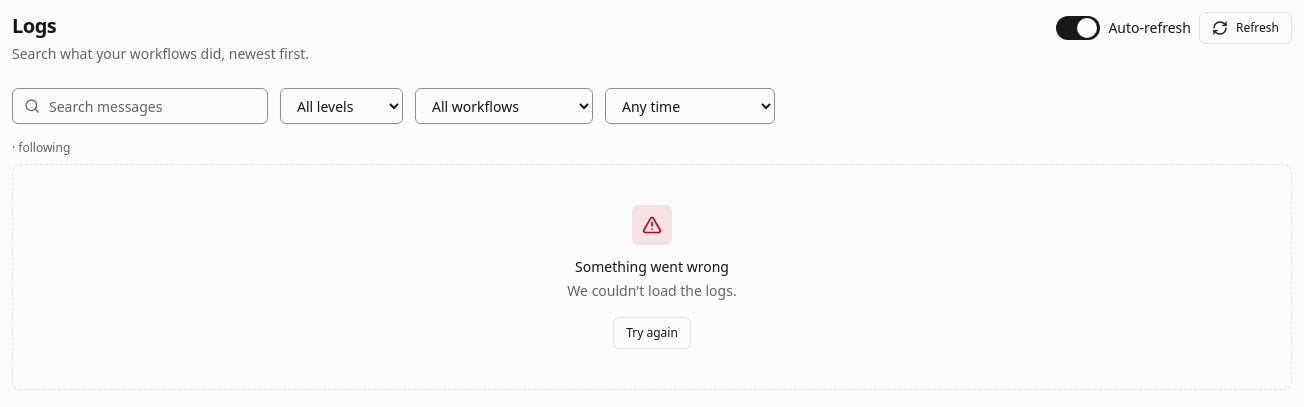
Test case: LogsPage › shows an error with a retry
This screenshot has width=1304, height=407.
What coordinates should you click on to do the following:
click the button "Try again"
I would click on:
 (652, 333)
Its box is [613,317,691,349].
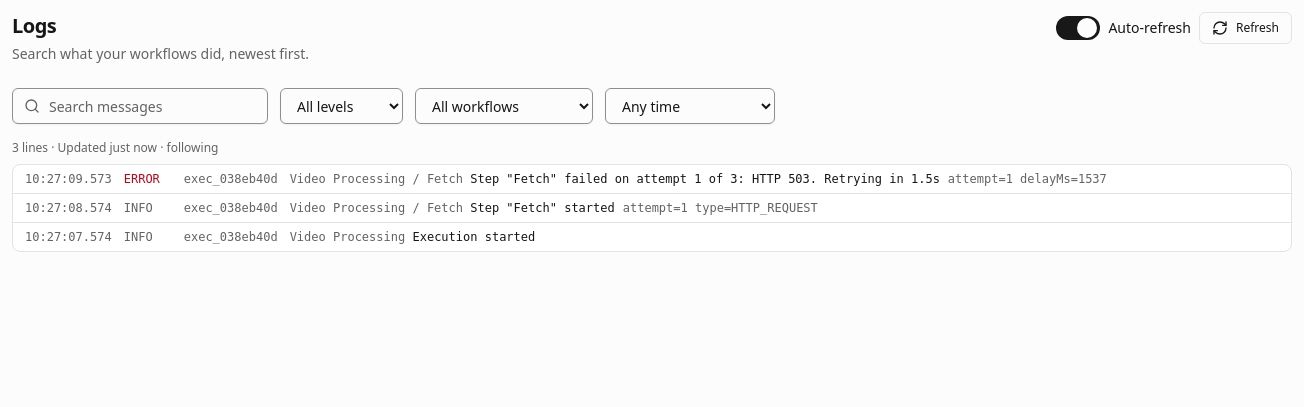
Expected: the element named "Log lines" is shown, [12,164,1292,252]
